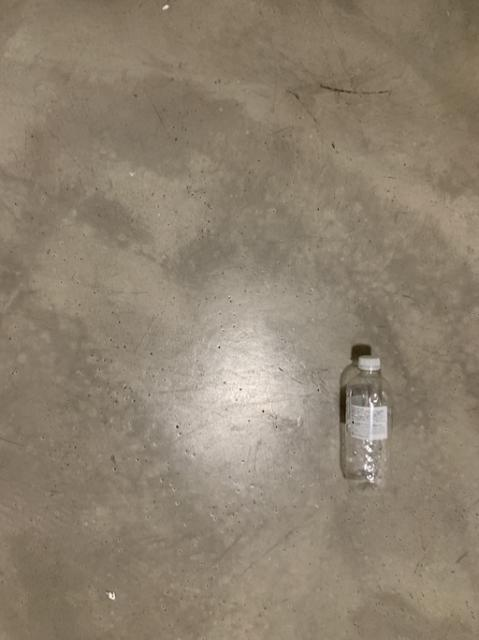plastic: (345, 355, 391, 491)
